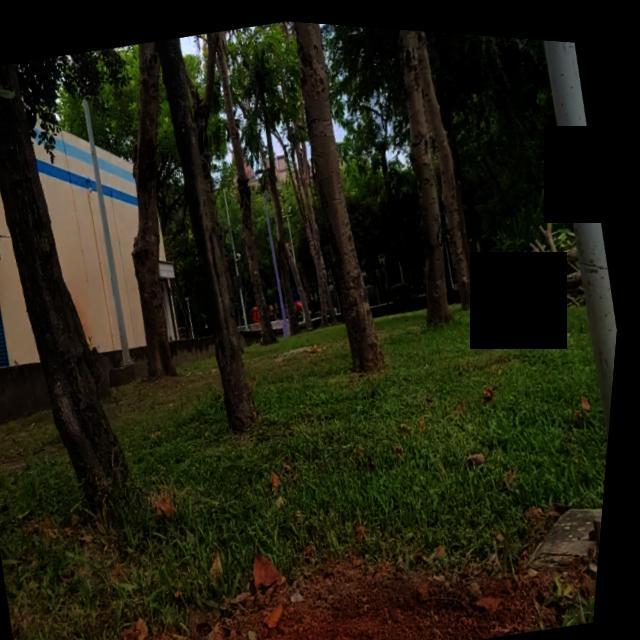Tree: (1, 49, 172, 518), (131, 28, 295, 432), (266, 18, 419, 386), (83, 42, 211, 390), (366, 23, 481, 326), (403, 28, 504, 313), (251, 135, 318, 327), (287, 154, 351, 328)
